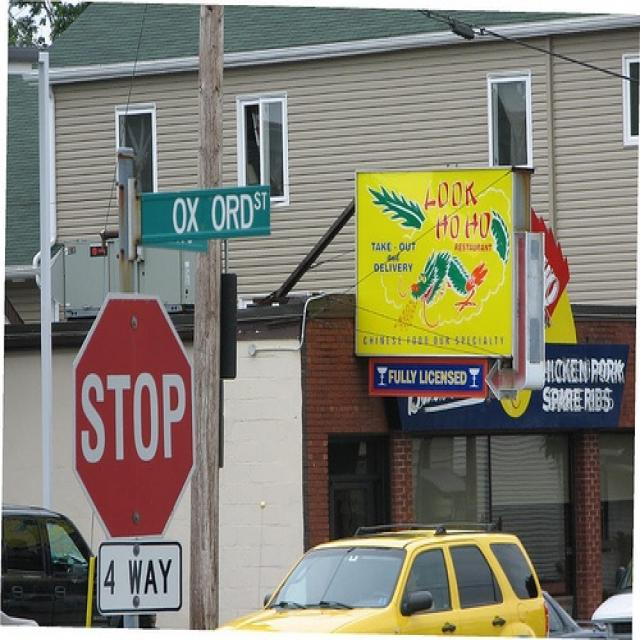car: (215, 520, 545, 630), (0, 500, 120, 625), (539, 588, 607, 636)
pole: (184, 3, 230, 625)
truck: (202, 520, 548, 637)
